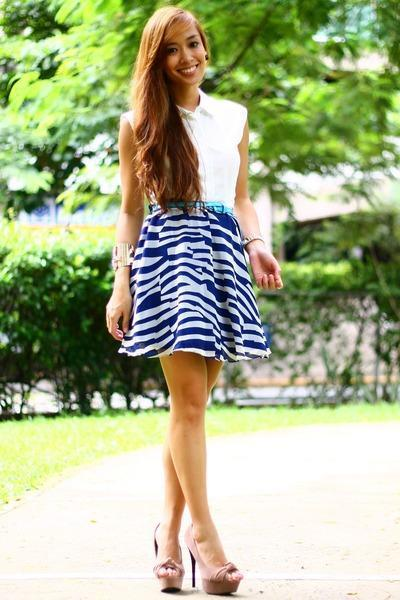shirt: (183, 88, 247, 203)
shoe: (153, 516, 240, 596)
skirt: (108, 184, 270, 362)
